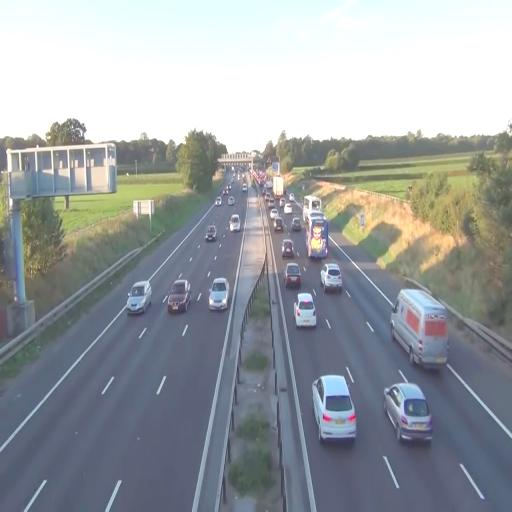vehicle: (390, 286, 449, 372), (390, 286, 449, 371), (383, 380, 433, 446), (312, 374, 356, 444), (304, 200, 328, 258), (309, 210, 329, 258), (167, 278, 191, 314), (126, 281, 152, 314), (294, 292, 317, 329), (208, 278, 230, 311), (320, 262, 343, 293), (284, 262, 302, 288), (282, 238, 296, 258), (229, 213, 241, 233), (270, 206, 280, 226), (205, 225, 216, 242)
